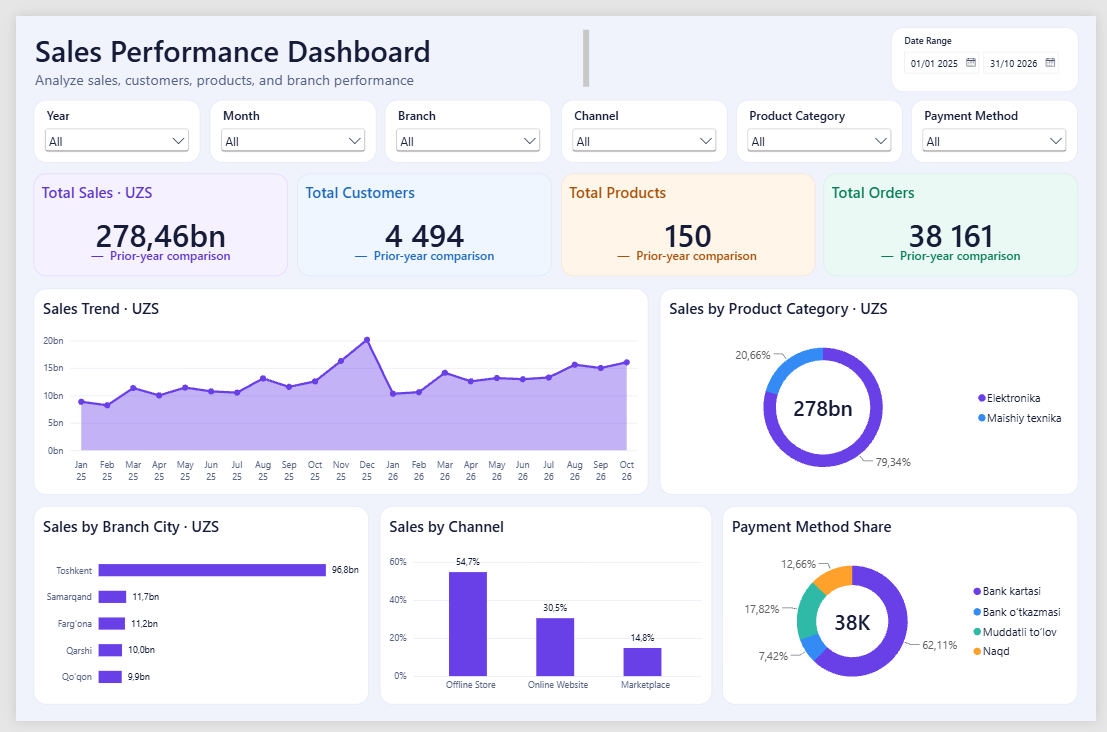

The page's visual inventory and layout, read from the dashboard file:
{"tool":"powerbi","page":{"name":"Sales Overview","canvas":[1440,940],"ordinal":0},"visuals":[{"type":"slicer","fields":{"Values":["DIM_DATE.Date"]},"box":[1021,15,395,86],"z":1000},{"type":"textbox","box":[24.7,18.5,739.5,77.2],"z":1000},{"type":"slicer","fields":{"Values":["DIM_DATE.Year"]},"box":[24,111,222,84],"z":1000},{"type":"slicer","fields":{"Values":["DIM_DATE.Month Name"]},"box":[258,111,222,84],"z":1000},{"type":"slicer","fields":{"Values":["DIM_branch.BranchName"]},"box":[492,111,222,84],"z":1000},{"type":"slicer","fields":{"Values":["DIm_channel.ChannelName"]},"box":[726,111,222,84],"z":1000},{"type":"slicer","fields":{"Values":["DIM_Product.Category"]},"box":[960,111,222,84],"z":1000},{"type":"slicer","fields":{"Values":["DIM_Payment.PaymentType"]},"box":[1194,111,222,84],"z":1000},{"type":"card","title":"Total Sales · UZS","fields":{"Values":["Fact_Sales.Total Sales"]},"box":[24,210,339,137],"z":1000},{"type":"card","title":"Total Customers","fields":{"Values":["Fact_Sales.Total Customers"]},"box":[375,210,339,137],"z":1000},{"type":"card","title":"Total Products","fields":{"Values":["Fact_Sales.Total Products"]},"box":[726,210,339,137],"z":1000},{"type":"card","title":"Total Orders","fields":{"Values":["Fact_Sales.Total Orders"]},"box":[1077,210,339,137],"z":1000},{"type":"areaChart","title":"Sales Trend · UZS","fields":{"Category":["DIM_DATE.Month Year"],"Y":["Fact_Sales.Total Sales"]},"box":[24,363,820,275],"z":1000},{"type":"donutChart","title":"Sales by Product Category · UZS","fields":{"Category":["DIM_Product.Category"],"Y":["Fact_Sales.Total Sales"]},"box":[858,363,558,275],"z":1000},{"type":"clusteredBarChart","title":"Sales by Branch City · UZS","fields":{"Category":["DIM_branch.City"],"Y":["Fact_Sales.Top City Sales"]},"box":[24,653,447,265],"z":1000},{"type":"clusteredColumnChart","title":"Sales by Channel","fields":{"Category":["DIm_channel.ChannelName"],"Y":["Fact_Sales.Channel Sales Share"]},"box":[485,653,443,265],"z":1000},{"type":"donutChart","title":"Payment Method Share","fields":{"Category":["DIM_Payment.PaymentType"],"Y":["Fact_Sales.Total Orders"]},"box":[942,653,474,265],"z":1000},{"type":"card","fields":{"Values":["Fact_Sales.Total Sales YoY Label"]},"box":[42,304,303,36],"z":2000},{"type":"card","fields":{"Values":["Fact_Sales.Total Customers YoY Label"]},"box":[393,304,303,36],"z":2000},{"type":"card","fields":{"Values":["Fact_Sales.Total Products YoY Label"]},"box":[744,304,303,36],"z":2000},{"type":"card","fields":{"Values":["Fact_Sales.Total Orders YoY Label"]},"box":[1095,304,303,36],"z":2000}]}

Visuals, with their boxes in screenshot pixels (x1, y1, x2, y2), scaled from the page's 1440x940 canvas onto the 1107x732 screenshot:
slicer - DIM_DATE.Date: l=785, t=12, r=1089, b=79
textbox: l=19, t=14, r=587, b=75
slicer - DIM_DATE.Year: l=18, t=86, r=189, b=152
slicer - DIM_DATE.Month Name: l=198, t=86, r=369, b=152
slicer - DIM_branch.BranchName: l=378, t=86, r=549, b=152
slicer - DIm_channel.ChannelName: l=558, t=86, r=729, b=152
slicer - DIM_Product.Category: l=738, t=86, r=909, b=152
slicer - DIM_Payment.PaymentType: l=918, t=86, r=1089, b=152
"Total Sales · UZS" card: l=18, t=164, r=279, b=270
"Total Customers" card: l=288, t=164, r=549, b=270
"Total Products" card: l=558, t=164, r=819, b=270
"Total Orders" card: l=828, t=164, r=1089, b=270
"Sales Trend · UZS" areaChart: l=18, t=283, r=649, b=497
"Sales by Product Category · UZS" donutChart: l=660, t=283, r=1089, b=497
"Sales by Branch City · UZS" clusteredBarChart: l=18, t=509, r=362, b=715
"Sales by Channel" clusteredColumnChart: l=373, t=509, r=713, b=715
"Payment Method Share" donutChart: l=724, t=509, r=1089, b=715
card - Fact_Sales.Total Sales YoY Label: l=32, t=237, r=265, b=265
card - Fact_Sales.Total Customers YoY Label: l=302, t=237, r=535, b=265
card - Fact_Sales.Total Products YoY Label: l=572, t=237, r=805, b=265
card - Fact_Sales.Total Orders YoY Label: l=842, t=237, r=1075, b=265
